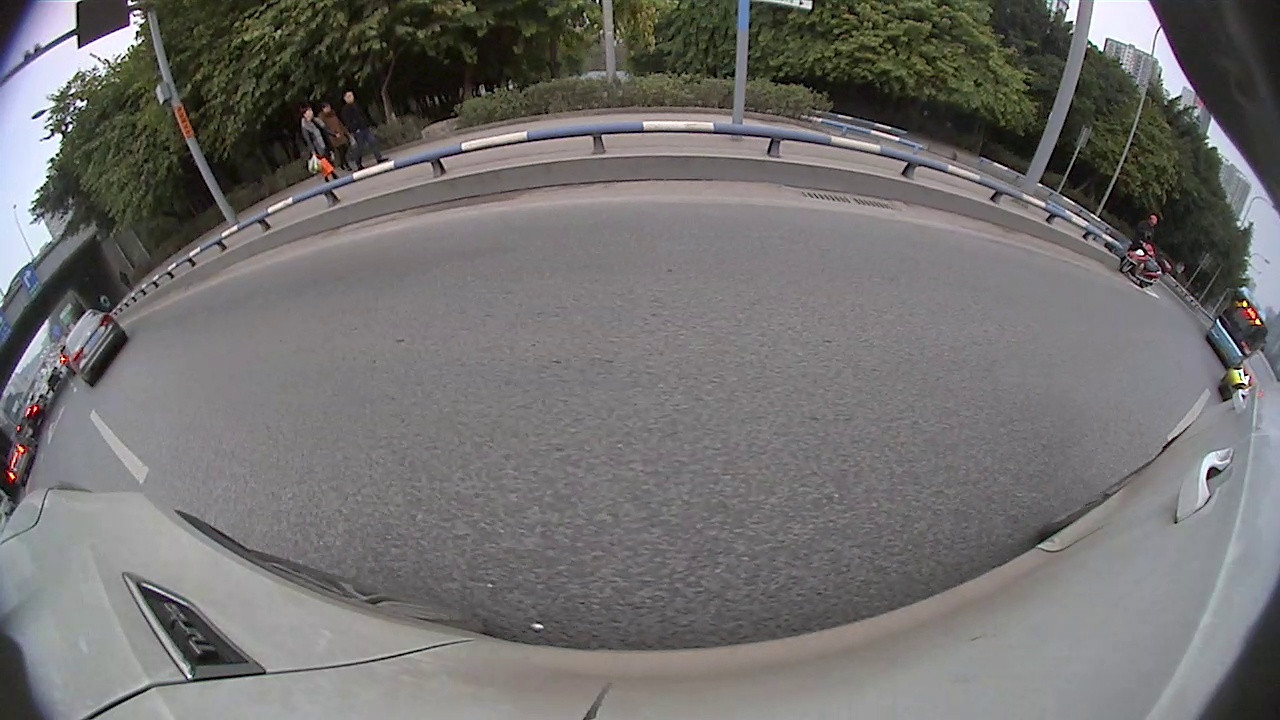bus: (1204, 288, 1272, 372)
car: (64, 307, 131, 387), (1217, 349, 1278, 402), (4, 434, 41, 488)
person: (299, 105, 339, 183), (344, 90, 382, 164), (320, 101, 353, 173), (1137, 214, 1159, 247)
rider: (1117, 237, 1173, 290)
